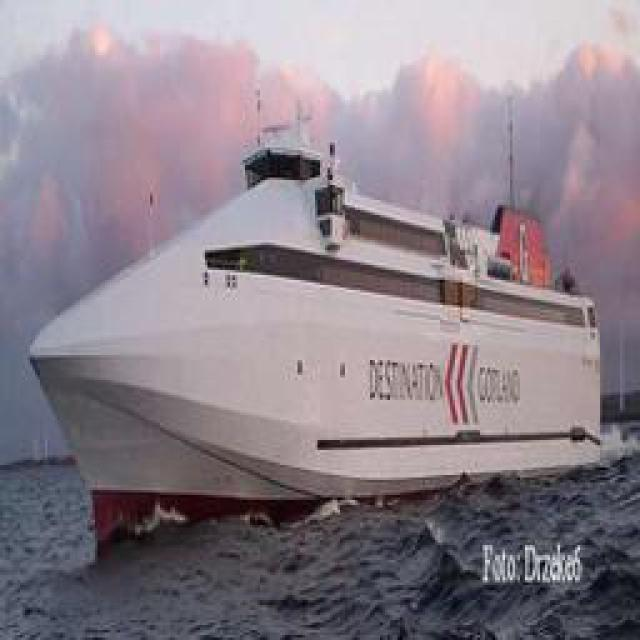Ship: (40, 135, 605, 545)
